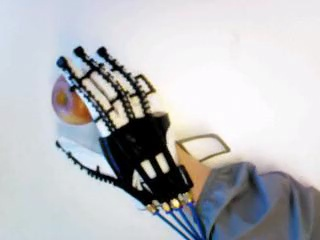apple: (50, 72, 93, 124)
hand: (53, 45, 193, 213)
